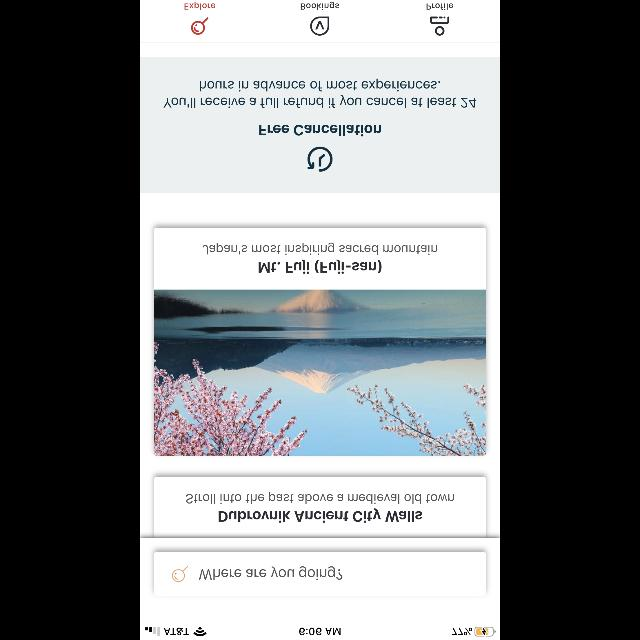icon: (308, 146, 332, 172), (430, 16, 450, 36), (192, 18, 208, 34), (172, 566, 188, 582)
image: (154, 289, 486, 455), (310, 16, 330, 36)
input: (154, 552, 486, 594)
text: (164, 78, 476, 108), (186, 492, 454, 504), (219, 508, 423, 522), (203, 243, 437, 255), (200, 566, 342, 580), (258, 260, 382, 274), (259, 125, 381, 136), (301, 2, 339, 10), (184, 2, 216, 10), (427, 4, 453, 10)
uppertaskbar: (140, 626, 500, 640)
